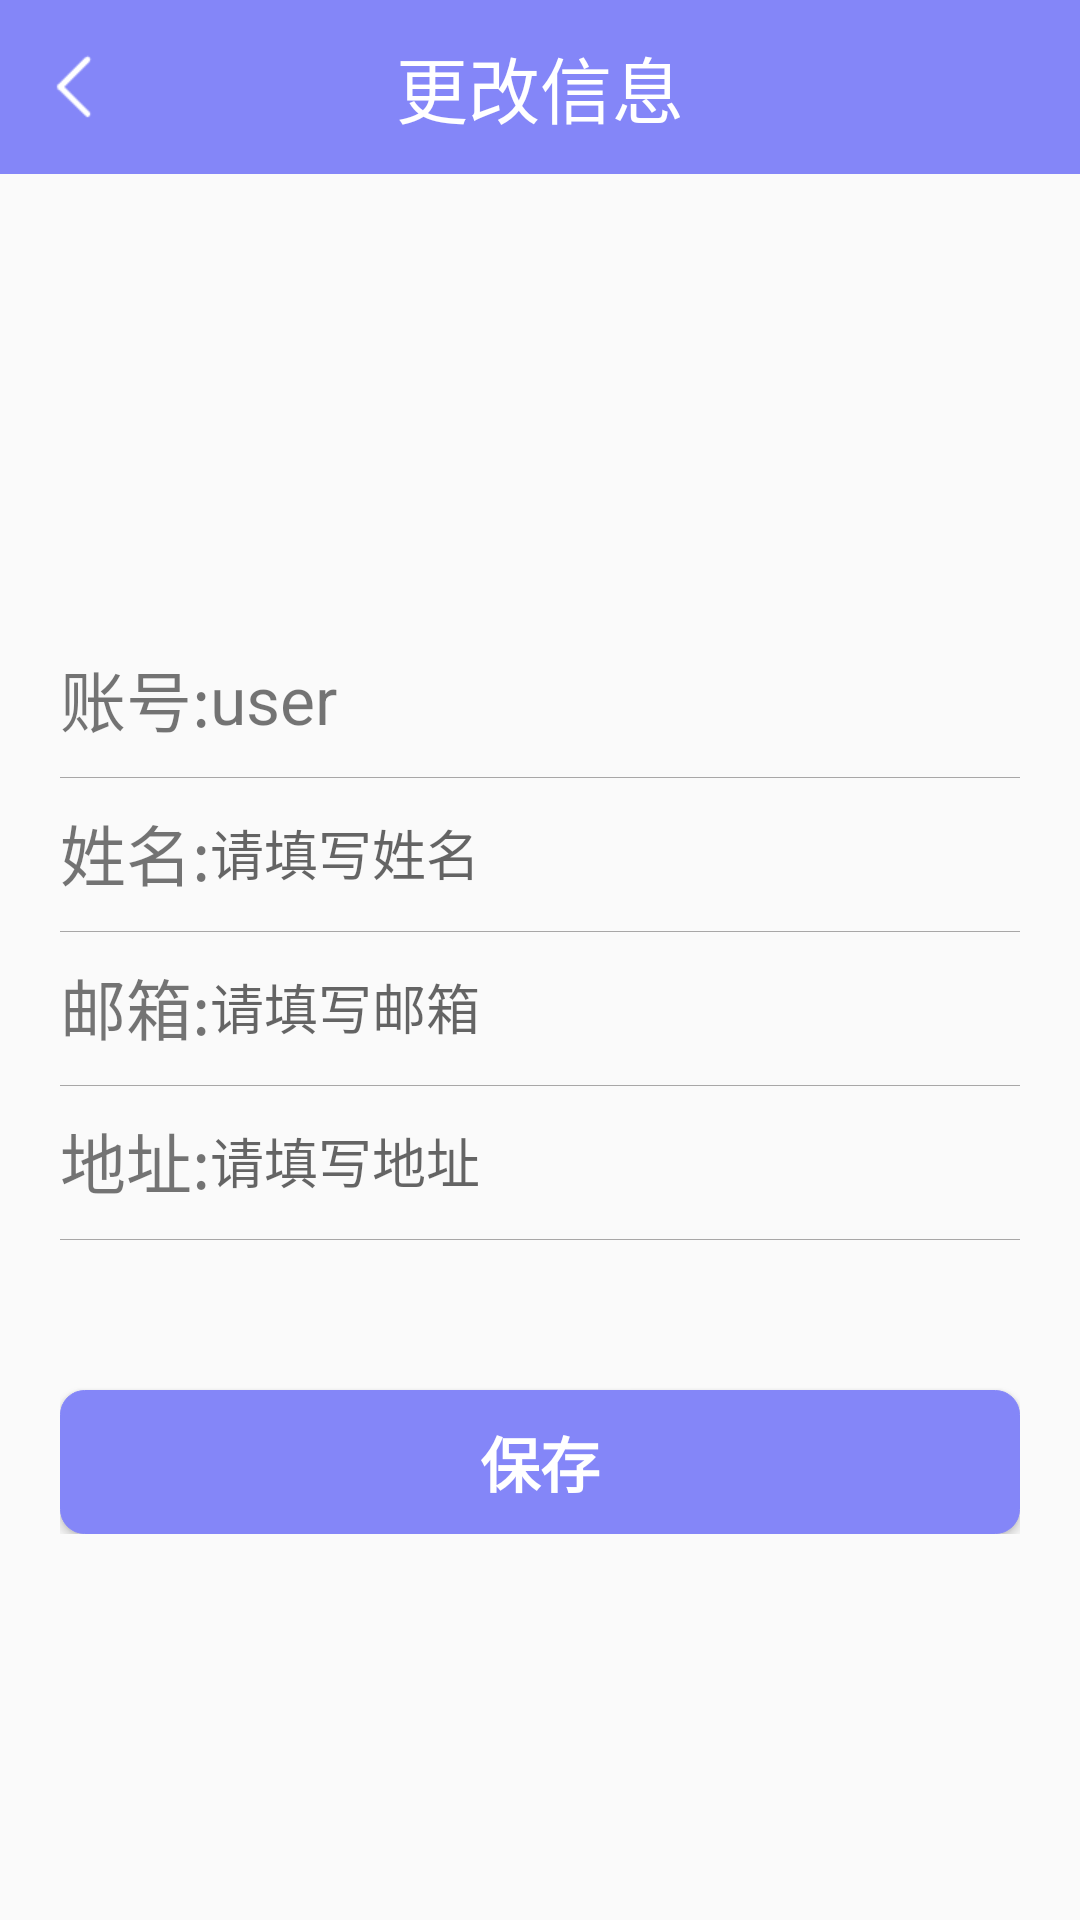

Screen size 1080x1920. Icon name, then its box in pixels as [x1, y1, x2, y2]:
back: [57, 56, 91, 117]
